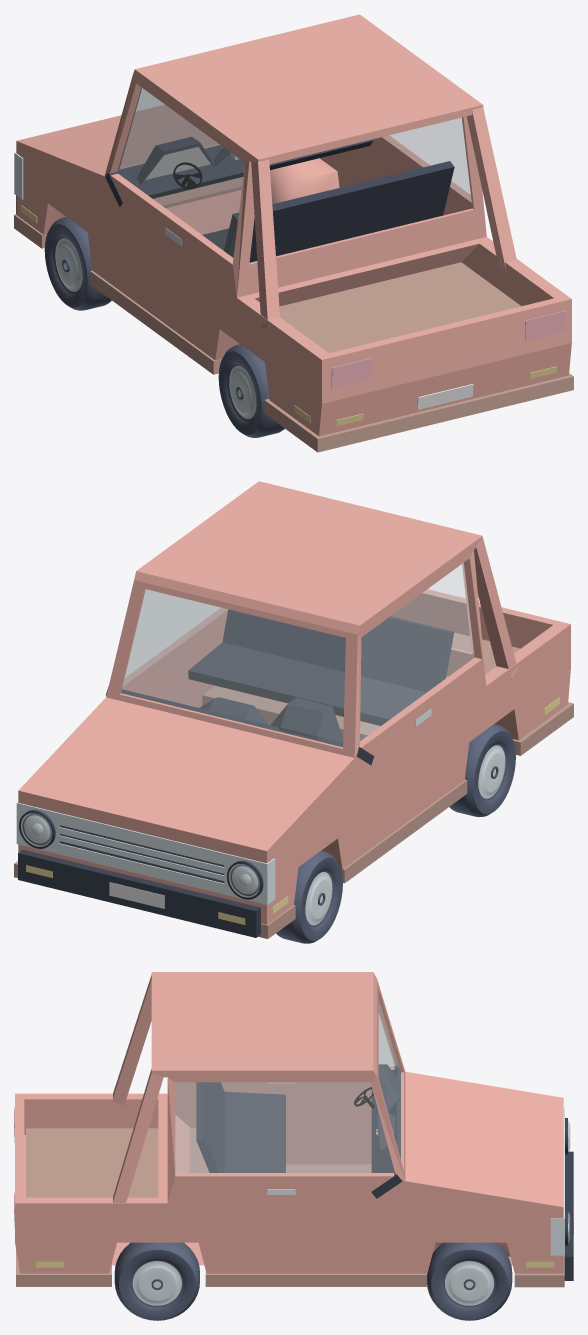
Rendered from Car_interior.fbx.
3 renders of one model, top to bottom at view 1: azimuth 30°, elevation 25°; view 2: azimuth 150°, elevation 25°; view 3: azimuth 270°, elevation 25°, orthographic. The views are drawn at different scales.
Visible parts, largest first — view 1: Cube_2_3, Cube, Cube_13, Cube_1, Cylinder_1_2, Cylinder_7, Cube_15, Cube_1_2, Cube_2_2, Cube_2, Cube_3, Plane (+4 smaller); view 2: Cube_2_3, Cube_3_2, Cube_13, Cube_14, Cube_4, Cylinder_1_2, Cylinder_7, Cube_1_2, Cube, Cube.001, Cube_2, Cube_15 (+8 smaller); view 3: Cube_2_3, Cube, Cylinder_5, Cylinder_6, Cube_14, Cube_2, Cube_13, Cube_2_2, Cube_1_2, Cube_15, Cube_1, Cube_4 (+3 smaller).
Part boxes in pixels (box(x1,y1,x2,y2)): Cube_2_3: box(16, 14, 571, 436); Cube: box(279, 262, 520, 352); Cube_13: box(224, 161, 454, 262); Cube_1: box(264, 373, 573, 452); Cylinder_1_2: box(218, 344, 284, 437); Cylinder_7: box(44, 217, 111, 310); Cube_15: box(105, 139, 372, 206); Cube_1_2: box(251, 159, 279, 327); Cube_2_2: box(466, 107, 516, 269); Cube_2: box(90, 270, 221, 374); Cube_3: box(14, 177, 243, 248); Plane: box(145, 147, 210, 179); Cube_2_3: box(18, 481, 570, 924); Cube_3_2: box(16, 802, 275, 904); Cube_13: box(222, 609, 454, 691); Cube_14: box(188, 642, 426, 725); Cube_4: box(18, 849, 260, 937); Cylinder_1_2: box(449, 724, 515, 817); Cylinder_7: box(276, 850, 342, 943); Cube_1_2: box(474, 538, 517, 678); Cube: box(202, 633, 520, 740); Cube.001: box(270, 697, 343, 742); Cube_2: box(341, 779, 467, 883); Cube_15: box(106, 686, 374, 765); Cube_2_3: box(15, 972, 563, 1274); Cube: box(26, 1128, 209, 1197); Cylinder_5: box(114, 1242, 199, 1320); Cylinder_6: box(427, 1242, 512, 1320); Cube_14: box(224, 1091, 285, 1172); Cube_2: box(205, 1164, 426, 1286); Cube_13: box(196, 1082, 224, 1172); Cube_2_2: box(113, 1069, 163, 1202); Cube_1_2: box(112, 975, 151, 1105); Cube_15: box(371, 1065, 402, 1198); Cube_1: box(16, 1249, 111, 1286); Cube_4: box(564, 1151, 573, 1280).
Size of what is drawn, in the model's own units: 464 by 473 by 971.
